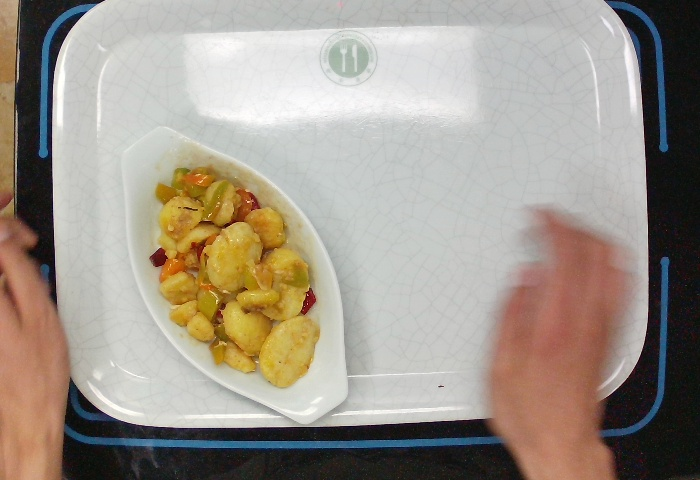JYsf-Yu_Pan: (118, 121, 352, 428)
